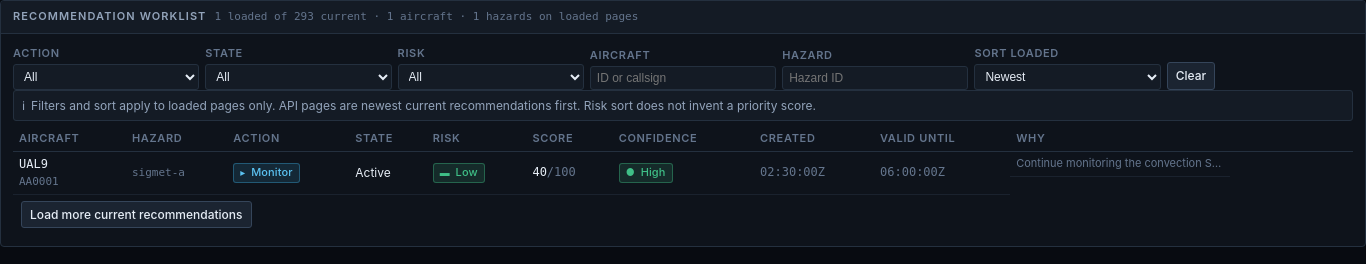
Scenario: RecommendationWorklist › walks an opaque nextToken with Load more
The image size is (1366, 264).
Click the button "Load more current recommendations": (136, 214) [21,200,252,228]
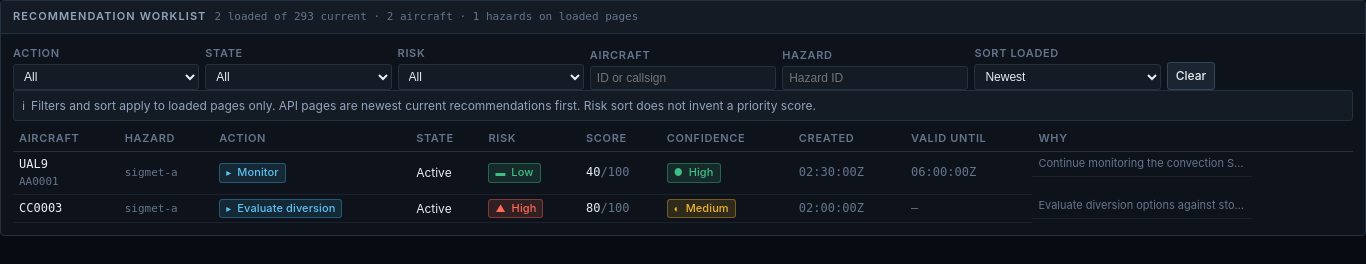
Now the text "CC0003" is shown, box [19,201,62,215]
